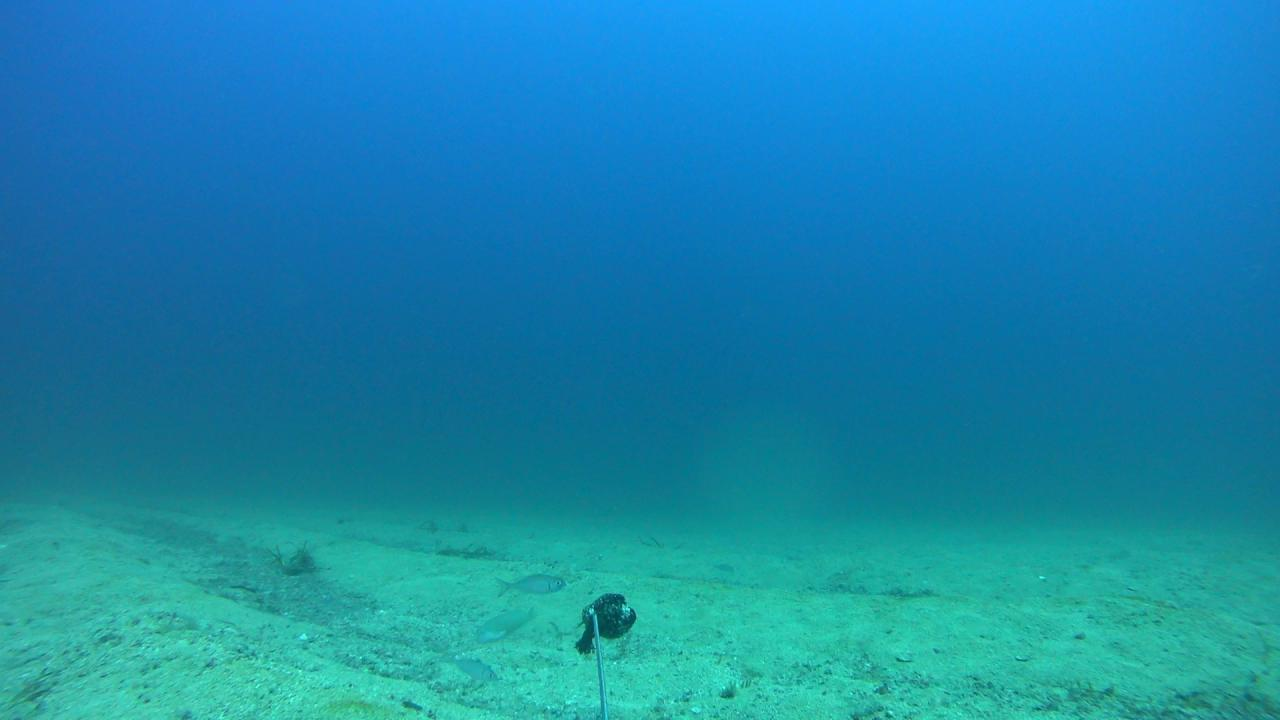pagellus: (441, 654, 504, 686), (492, 572, 567, 598)
raor: (476, 609, 538, 645)
